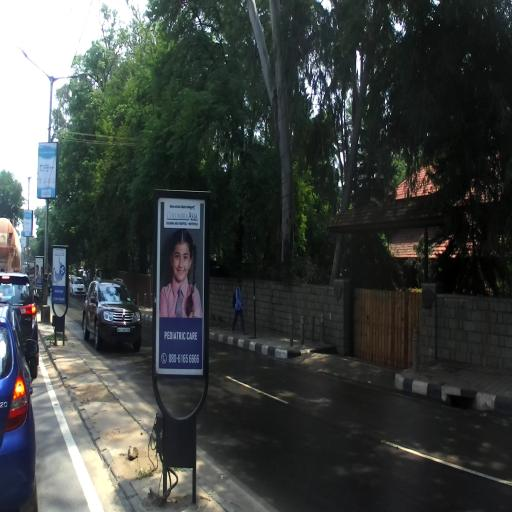street_light_0: (18, 45, 54, 82), (50, 73, 88, 97)
